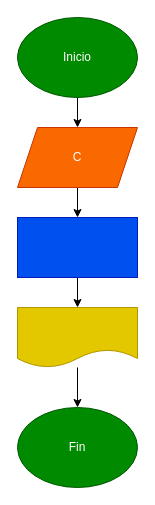
The diagram is 155 pixels wide and 505 high, and some of its shapes have lost their labels. Here are the shapes that lost their labels. From the top down, the centre of each, then its label:
At point 77,247: "k= C + 273.15 f= 1.8*C +32".
At point 77,337: "f,k".
